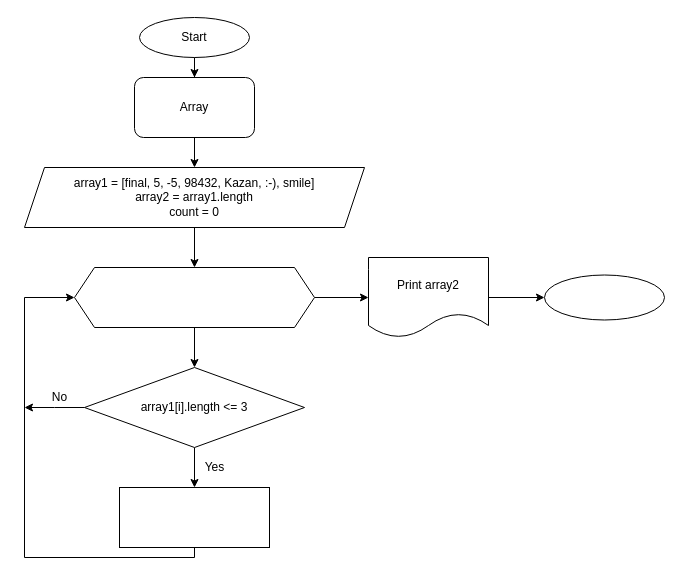
Some shapes in this 682 by 583 pixel diagram are drawn without their labels. The box of each missing label's shape, as (x1, y1, x2, y2) in pixels:
array2[count] = array[i] count+=1: (118, 486, 270, 548)
Finish: (544, 274, 664, 320)
i = 0; i < array1.length; i+=1: (74, 266, 314, 328)
